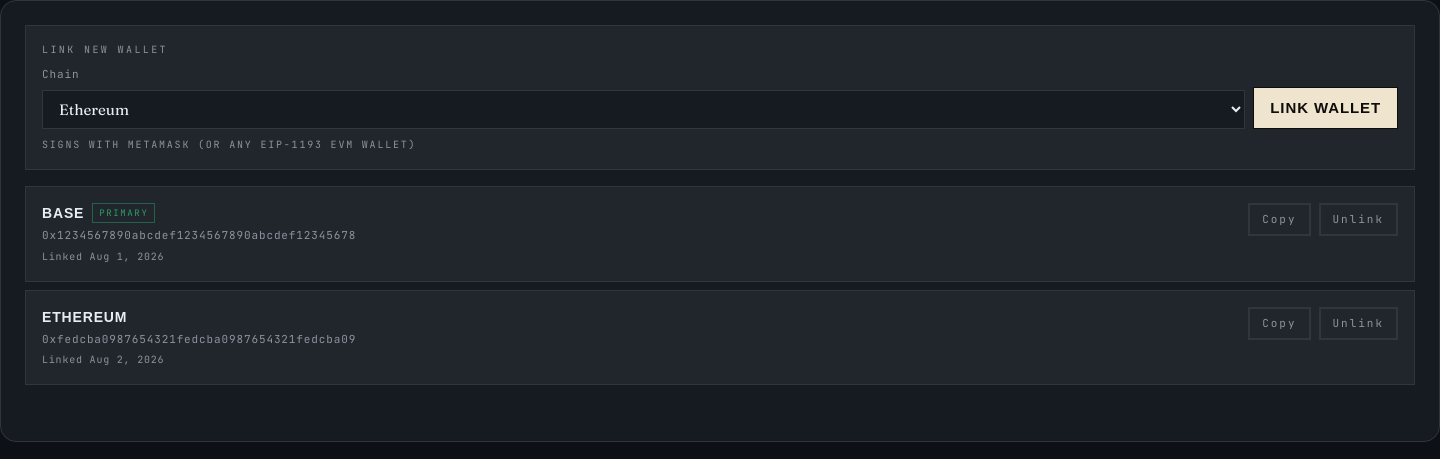
Test: copy address › announces success politely, once, naming the row
The width and height of the screenshot is (1440, 459).
Click the button with aria-label "Copy Base wallet address" at (1279, 219), box [1248, 203, 1310, 236]
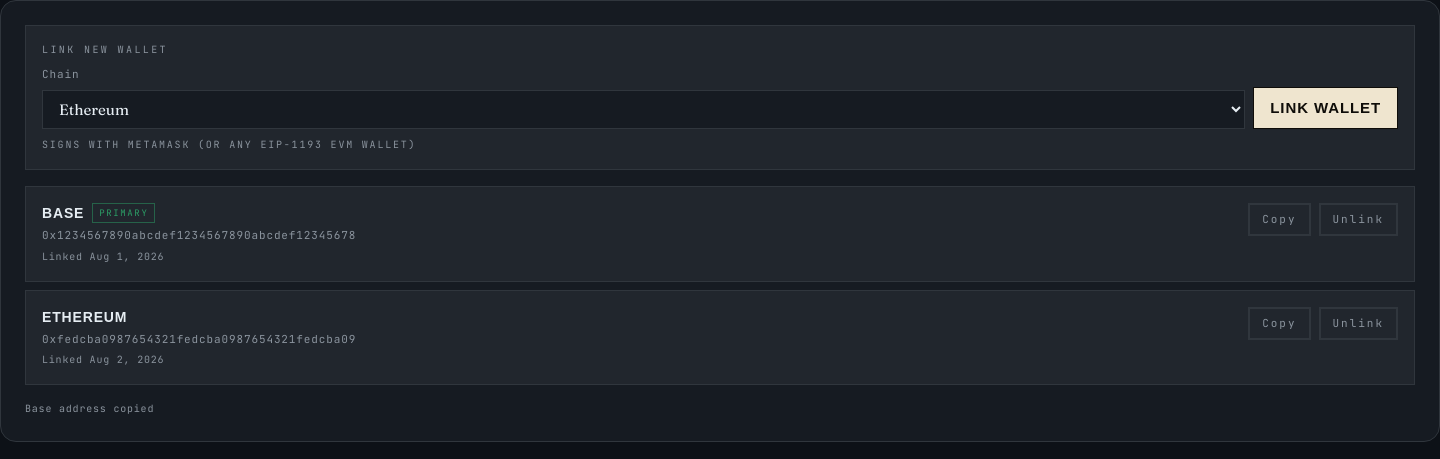
Check: the text "Base address copied" is shown, box [25, 402, 154, 415]
